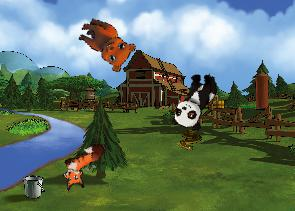bear: (70, 14, 139, 75)
fox: (53, 140, 115, 194)
panda: (169, 67, 221, 134)
